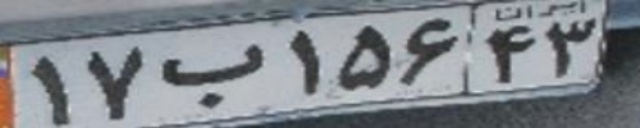1: (28, 56, 71, 125), (289, 30, 321, 94)
3: (547, 16, 599, 79)
4: (484, 23, 536, 84)
5: (338, 24, 389, 91)
6: (399, 17, 459, 87)
7: (80, 43, 145, 119)
be: (159, 42, 264, 108)
